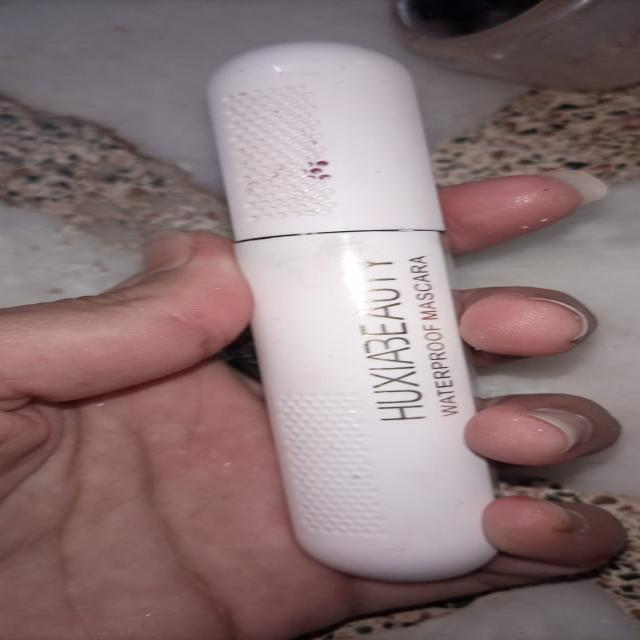mascara: (160, 40, 559, 612)
